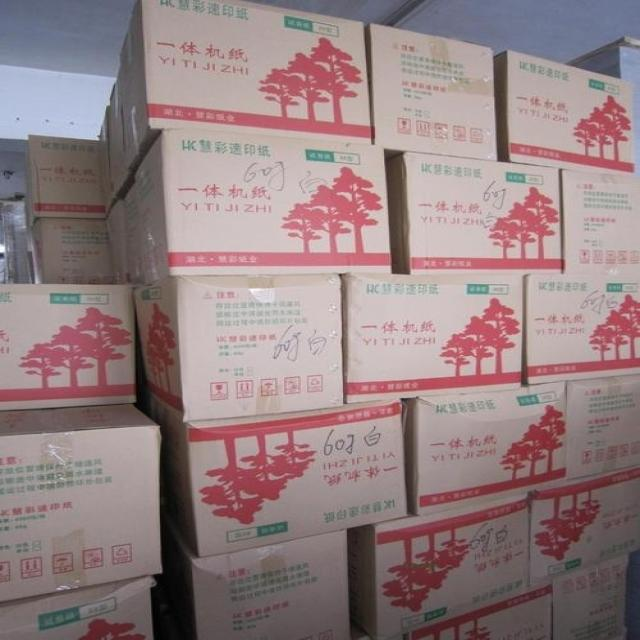box: (105, 131, 390, 283), (154, 401, 406, 558), (123, 3, 369, 161), (0, 406, 161, 604), (136, 277, 346, 421), (349, 489, 531, 636), (346, 274, 522, 402), (168, 527, 347, 640), (416, 382, 564, 514), (404, 154, 558, 275), (4, 283, 137, 414), (495, 49, 632, 173), (371, 24, 495, 160), (526, 275, 640, 388), (531, 467, 639, 584), (378, 582, 548, 640), (0, 578, 155, 638), (562, 169, 640, 276), (564, 375, 640, 482), (550, 555, 632, 638), (28, 136, 109, 217), (36, 218, 115, 282), (109, 64, 134, 195)
